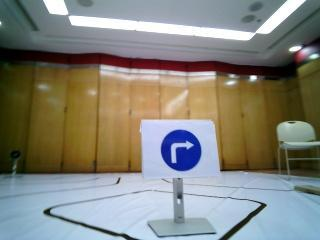right: (143, 120, 216, 179)
